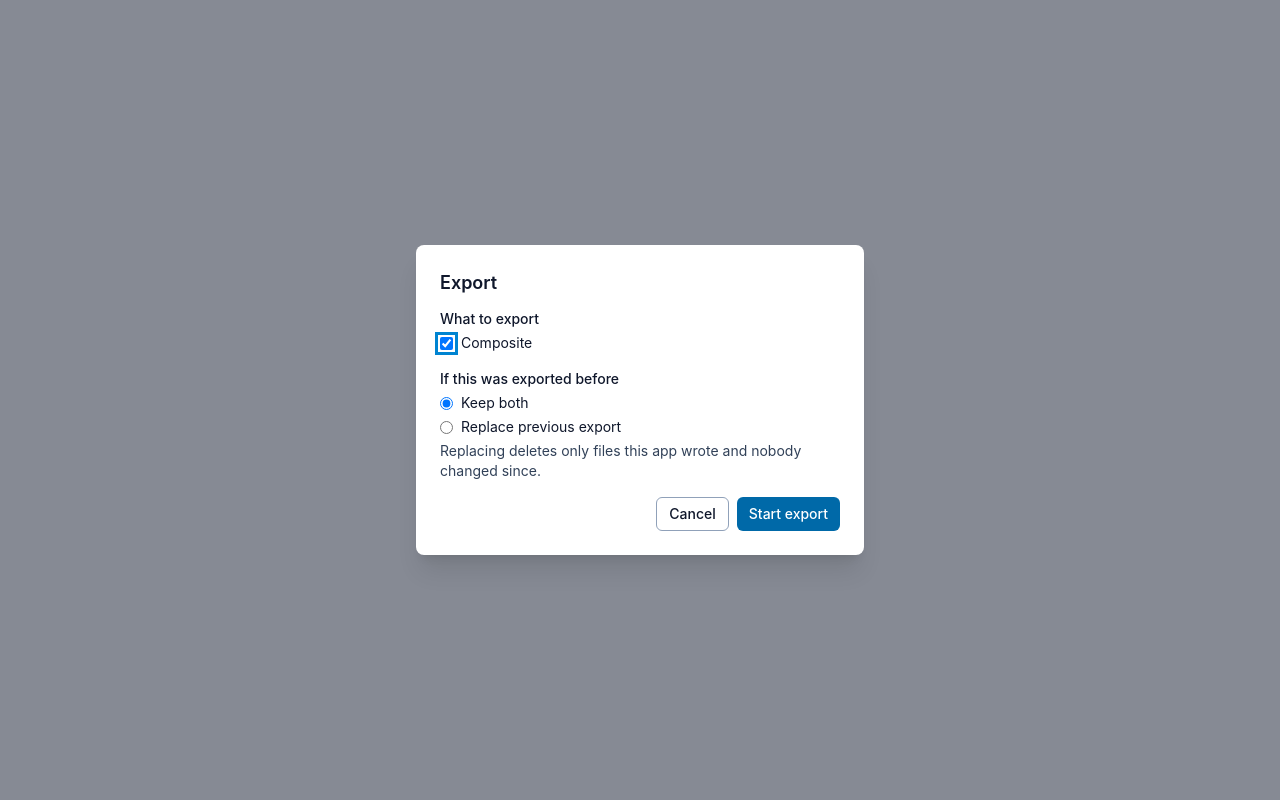
ExportDialog › cannot start while nothing is checked
Click the checkbox labelled "Composite".
click(446, 343)  # box top-left (440, 336), bottom-right (453, 350)
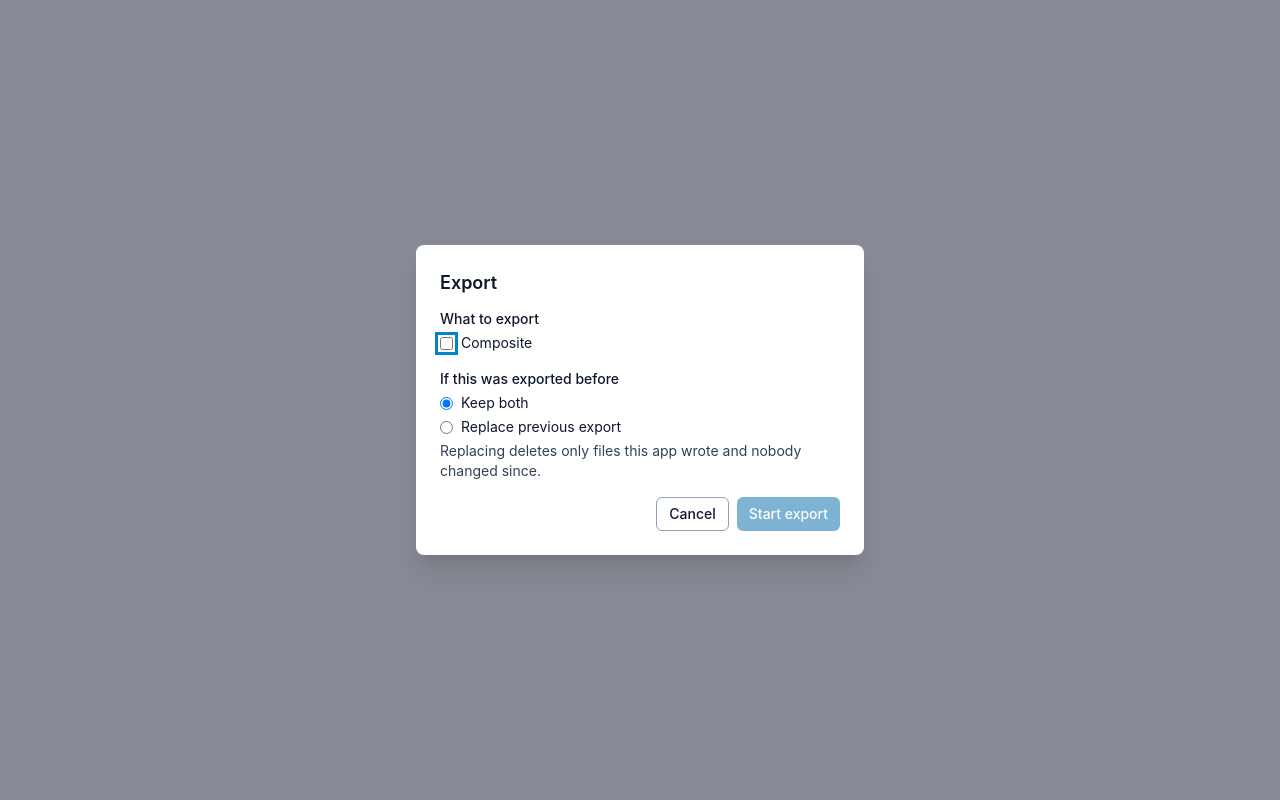
Now the button "Start export" is disabled, box top-left (737, 497), bottom-right (840, 531)
